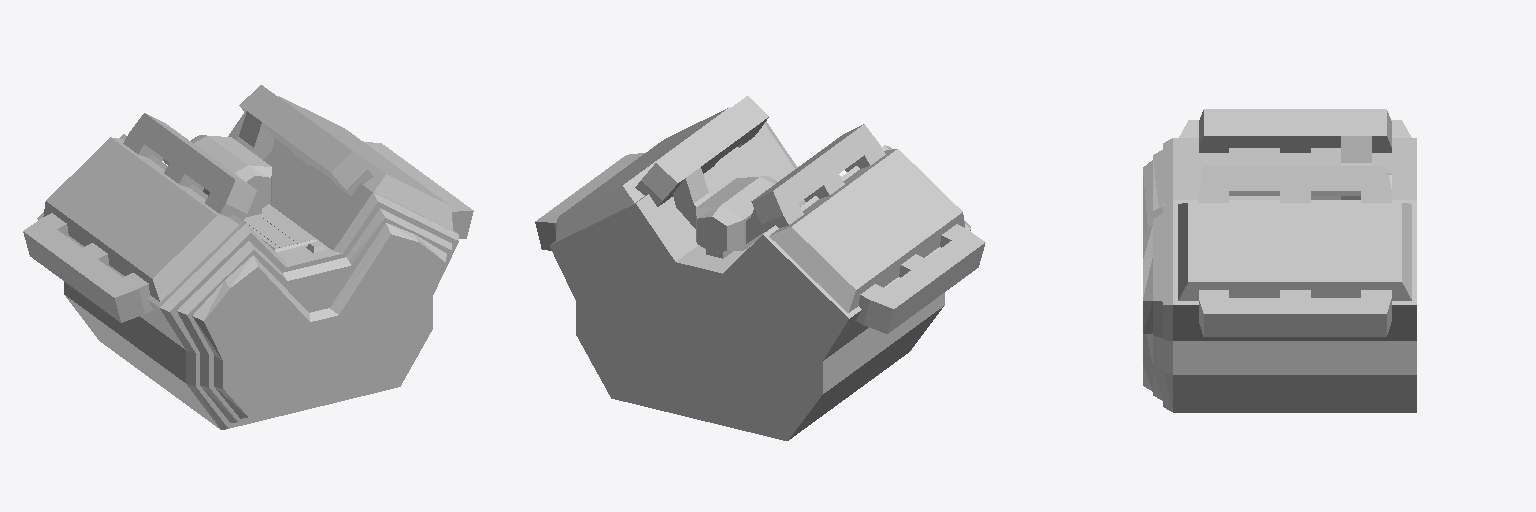
Rendered from v6falconstage2.obj.
3 renders of one model, left to right at view 1: azimuth 30°, elevation 25°; view 2: azimuth 150°, elevation 25°; view 3: azimuth 270°, elevation 25°, orthographic.
Parts seen in each view (by area): view 1: end, middle, start, inject, injectend, injectmiddle; view 2: start, middle, end, inject, injectmiddle; view 3: end, middle, start, inject.
Boxes of the visible parts, box(x1,y1,x2,y2) form: end: box(89, 133, 473, 429); middle: box(49, 103, 447, 399); start: box(23, 85, 406, 369); inject: box(163, 111, 274, 191); injectend: box(234, 165, 271, 217); injectmiddle: box(204, 150, 271, 195); start: box(535, 144, 918, 440); middle: box(561, 114, 959, 410); end: box(602, 96, 985, 380); inject: box(673, 167, 764, 258); injectmiddle: box(717, 177, 774, 232); end: box(1143, 109, 1254, 412); middle: box(1255, 109, 1335, 412); start: box(1336, 109, 1416, 412); inject: box(1336, 136, 1391, 199).
Bounding box in the file's own units: 0.9554 × 0.6017 × 0.6328.